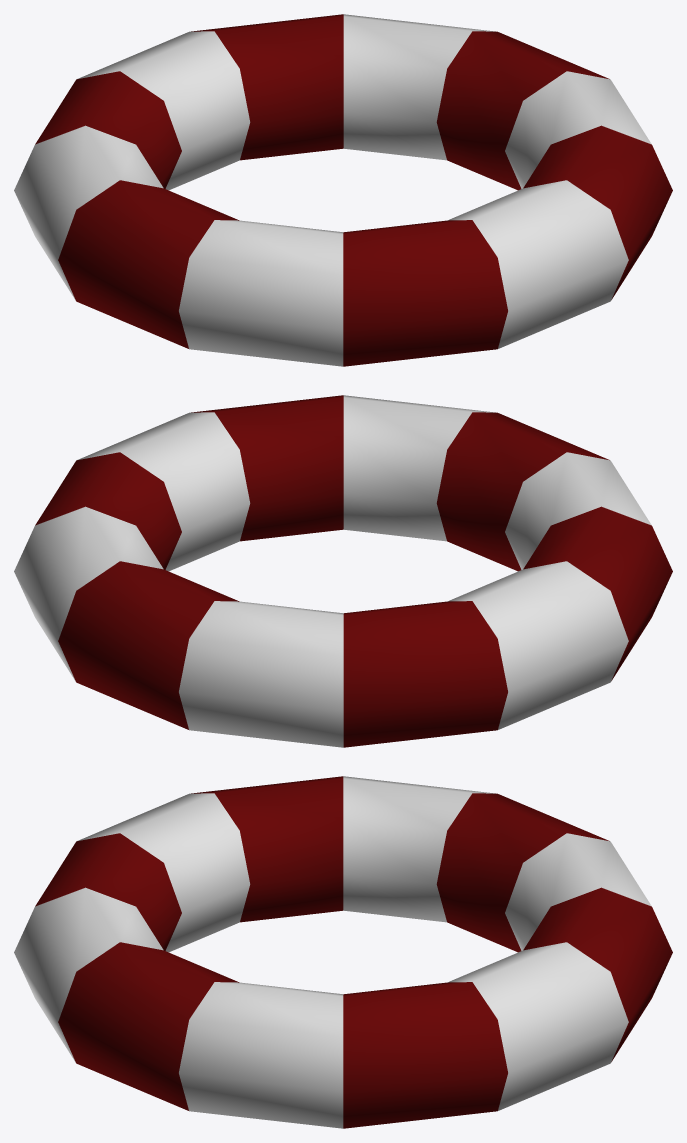
File: 3D_Lifebouy.FBX
3 renders of one model, top to bottom at view 1: azimuth 30°, elevation 25°; view 2: azimuth 150°, elevation 25°; view 3: azimuth 270°, elevation 25°, orthographic.
Visible parts, largest first — view 1: 3D_LifeBouy; view 2: 3D_LifeBouy; view 3: 3D_LifeBouy.
Boxes of the visible parts, box(x1,y1,x2,y2) form: 3D_LifeBouy: box(14, 14, 672, 366); 3D_LifeBouy: box(14, 395, 672, 747); 3D_LifeBouy: box(14, 776, 672, 1128).
Bounding box in the file's own units: 42.82 × 42.82 × 9.3.
